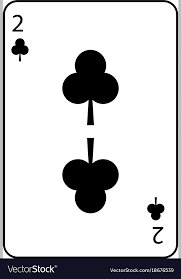two of clubs: (4, 1, 177, 260)
